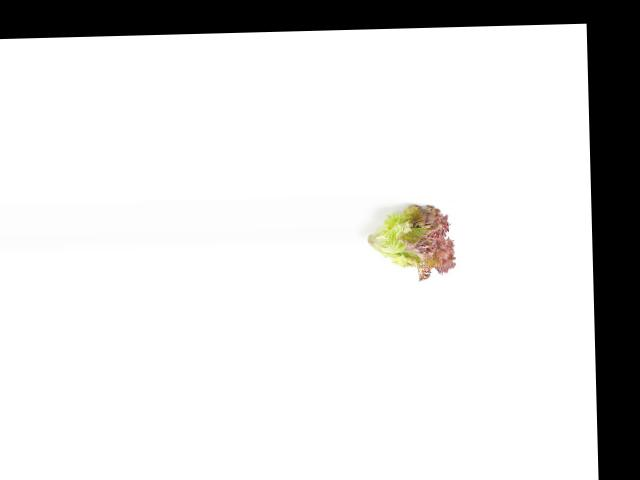lettuce: (355, 201, 460, 280)
